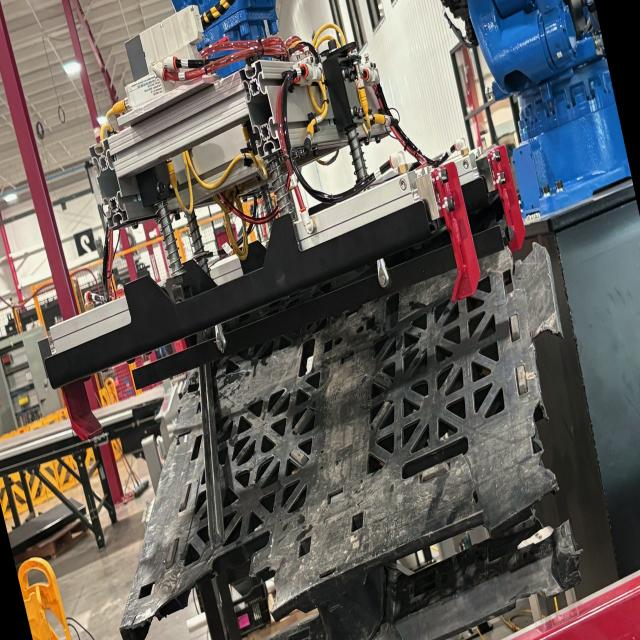igps: (114, 234, 572, 640)
